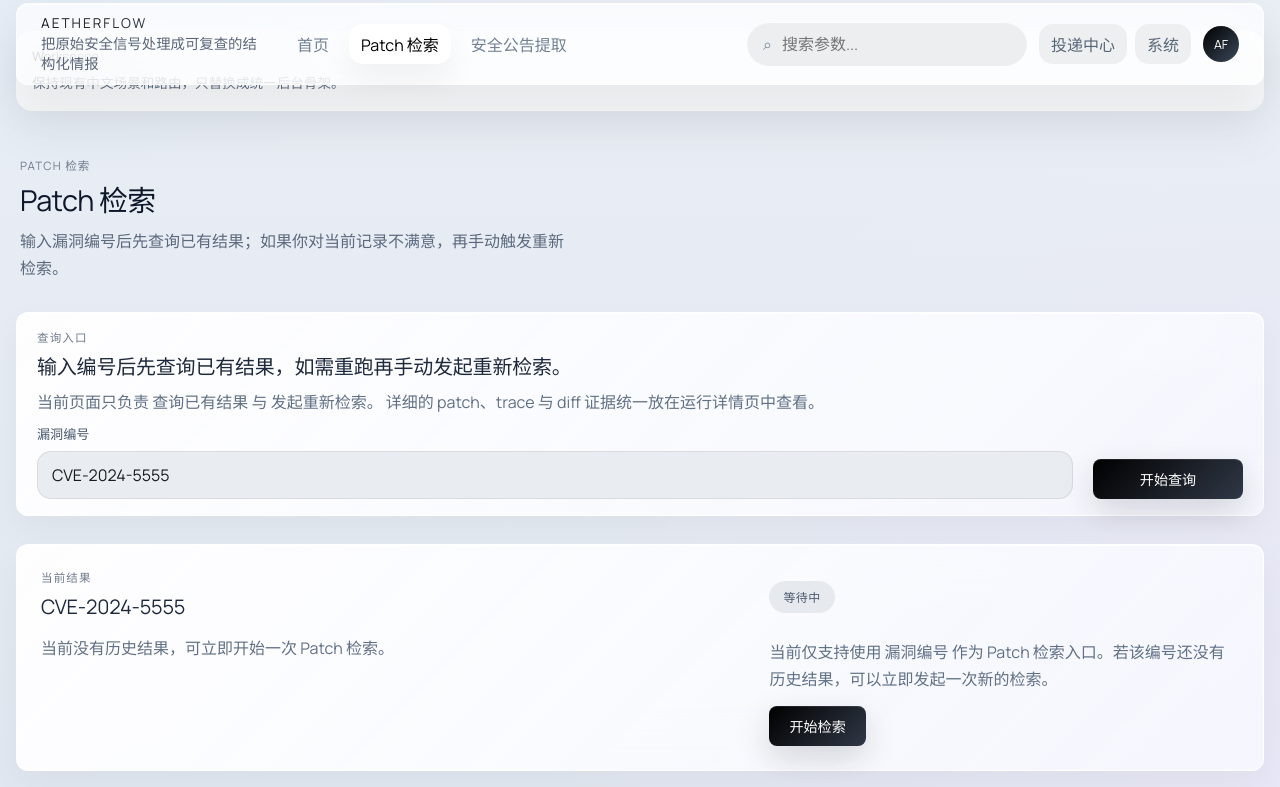
Test: patch page shows live progress panel and recent crawl activity while run is still running
This screenshot has width=1280, height=787.
(page scrolled)
Expected: the text "当前没有历史结果，可立即开始一次 Patch 检索。" is shown, [41,637,394,659]
Step 1. Click the button "开始检索" → [818, 726], box [769,706,866,746]
(page scrolled)
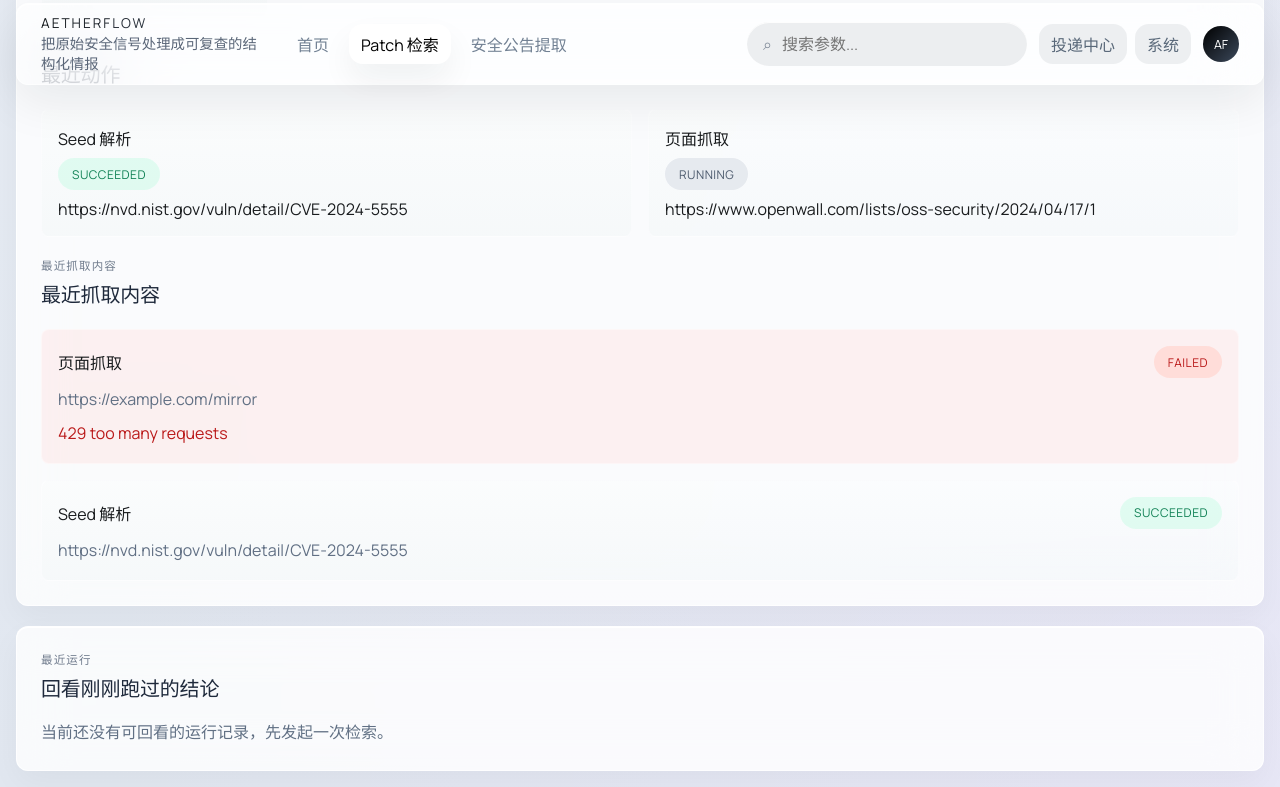
Now the text "最近抓取内容" is shown, box [41,258,117,273]
Now the text "https://www.openwall.com/lists/oss-security/2024/04/17/1" is shown, box [665,198,1096,220]
Now the text "429 too many requests" is shown, box [58,422,228,444]
